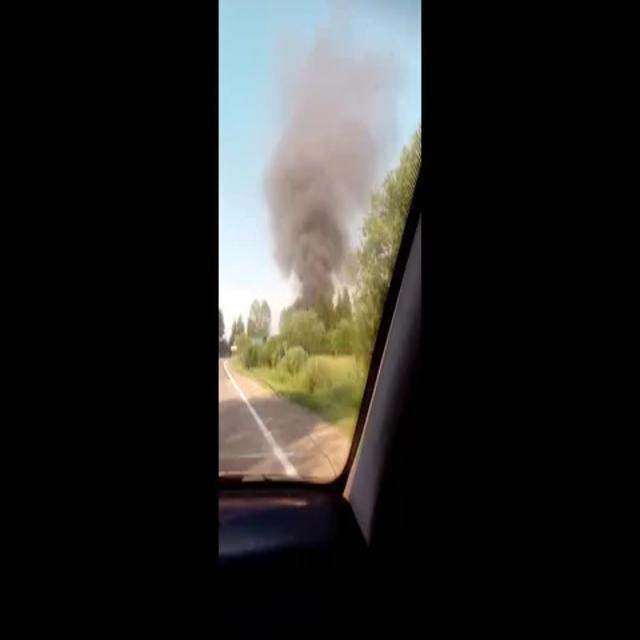Smoke: (260, 34, 396, 314)
